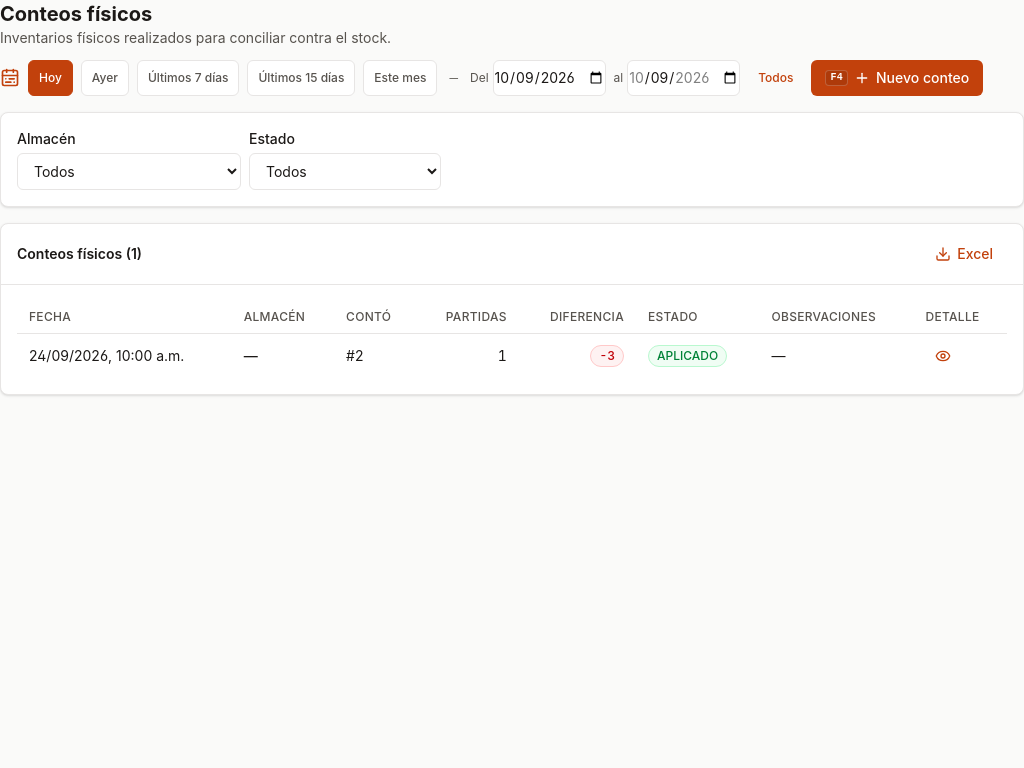
Test: ConteosPage (profundización) › muestra el detalle con diferencia negativa y código ausente
The width and height of the screenshot is (1024, 768).
Click the button named "Ver detalle del conteo 2": (943, 356) top-left (925, 342), bottom-right (961, 370)
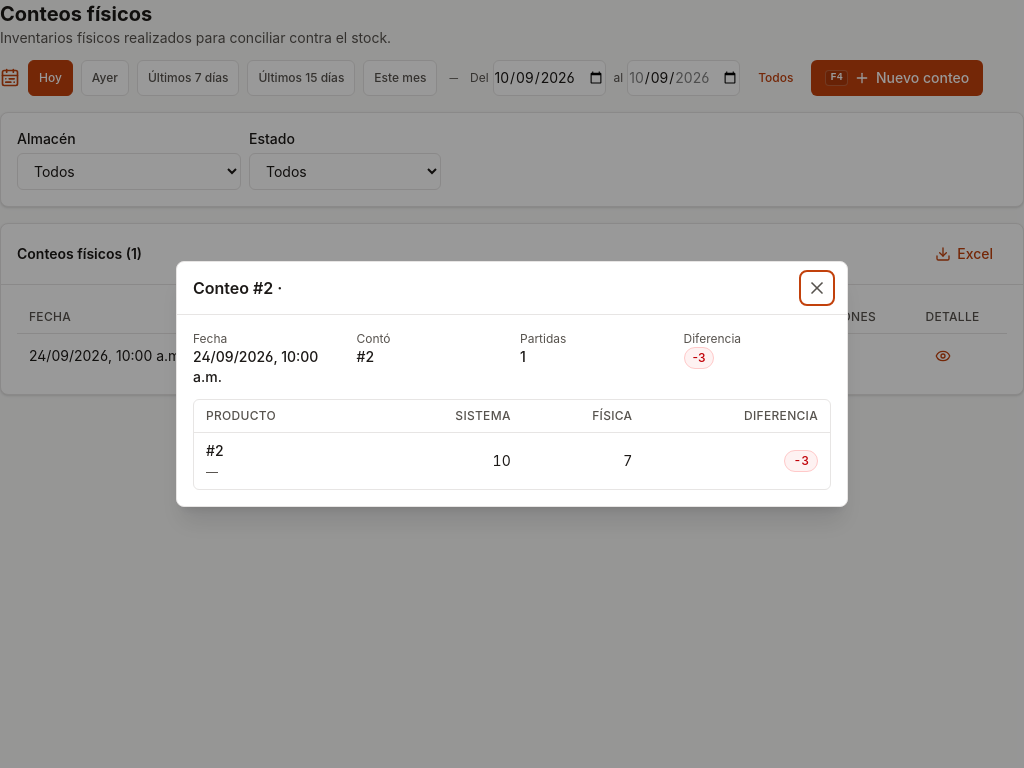
Result: the heading "Conteo #2 ·" is shown at top-left (193, 276), bottom-right (282, 300)
Result: the text "Contó" is shown at top-left (356, 331), bottom-right (391, 346)
